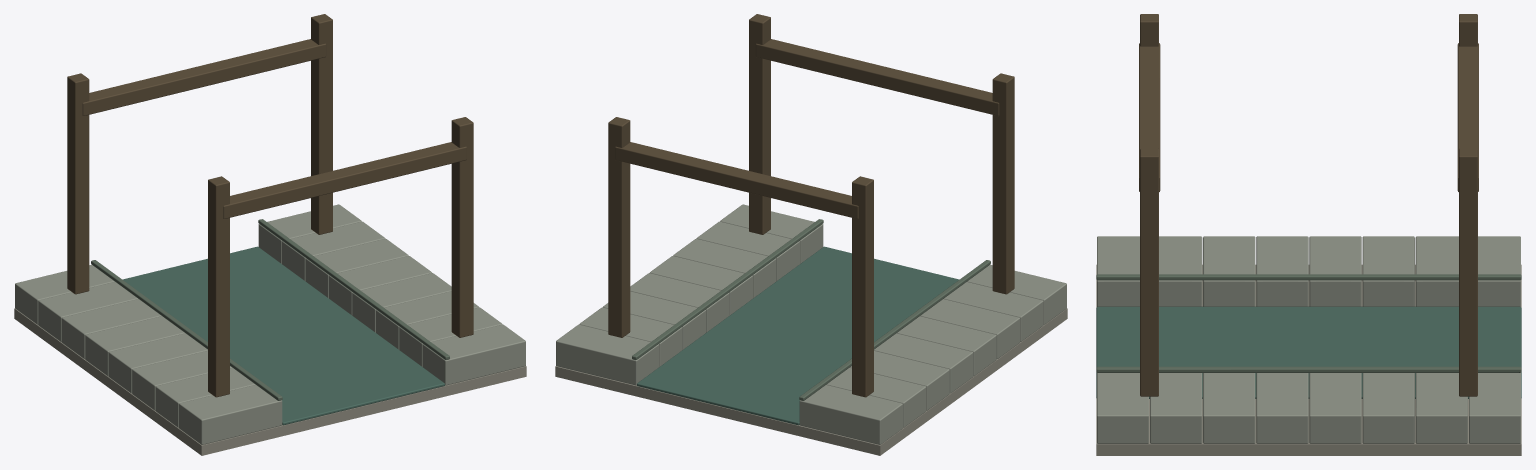
File: undercity-sewers-and-thieves-den-shored-channel-89f3f0cf__25026.glb
3 views of the same model, side by side, from view 1: azimuth 30°, elevation 25°; view 2: azimuth 150°, elevation 25°; view 3: azimuth 270°, elevation 25° (orthographic). The views are drawn at different scales.
Parts seen in each view (by area): view 1: shored-channel; view 2: shored-channel; view 3: shored-channel.
Part boxes in pixels (box(x1,y1,x2,y2)): shored-channel: box(14, 14, 526, 455); shored-channel: box(555, 14, 1067, 455); shored-channel: box(1096, 14, 1521, 455).
Size of the model in its own units: 4 by 2.92 by 4.
